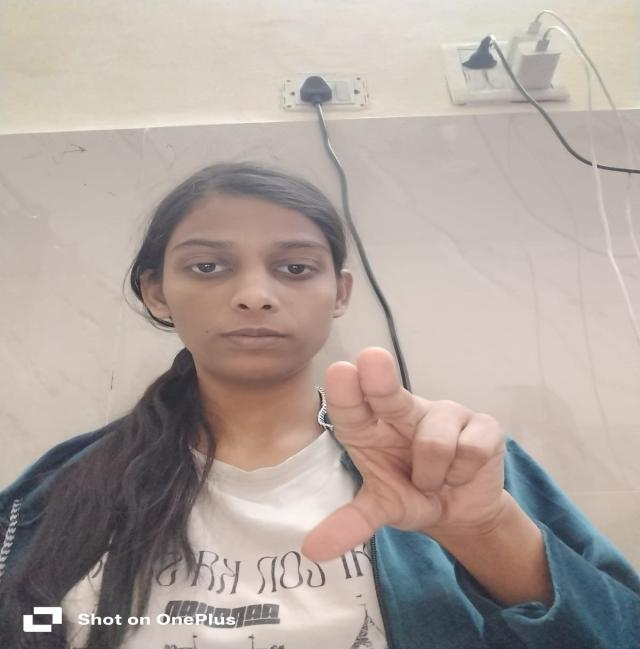No: (286, 340, 526, 584)
